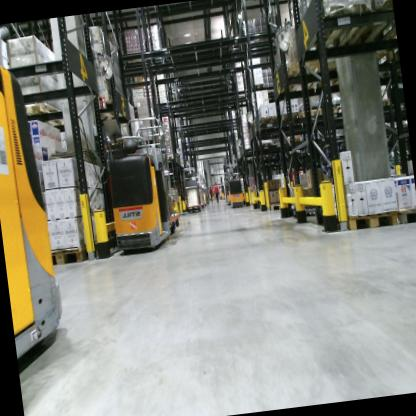forklift: (214, 171, 227, 200)
pallet: (297, 0, 377, 57), (281, 51, 358, 96), (43, 233, 108, 269), (15, 88, 72, 128), (349, 0, 397, 47), (351, 42, 395, 78), (337, 210, 400, 234), (253, 113, 281, 151), (295, 105, 330, 127), (327, 101, 352, 122), (259, 199, 290, 215), (396, 203, 416, 225), (377, 96, 393, 113), (249, 152, 271, 163), (266, 149, 284, 159)
pallet_truck: (0, 33, 81, 369), (98, 107, 188, 252), (178, 160, 203, 217), (226, 167, 249, 210), (191, 163, 207, 212), (222, 168, 237, 209)
